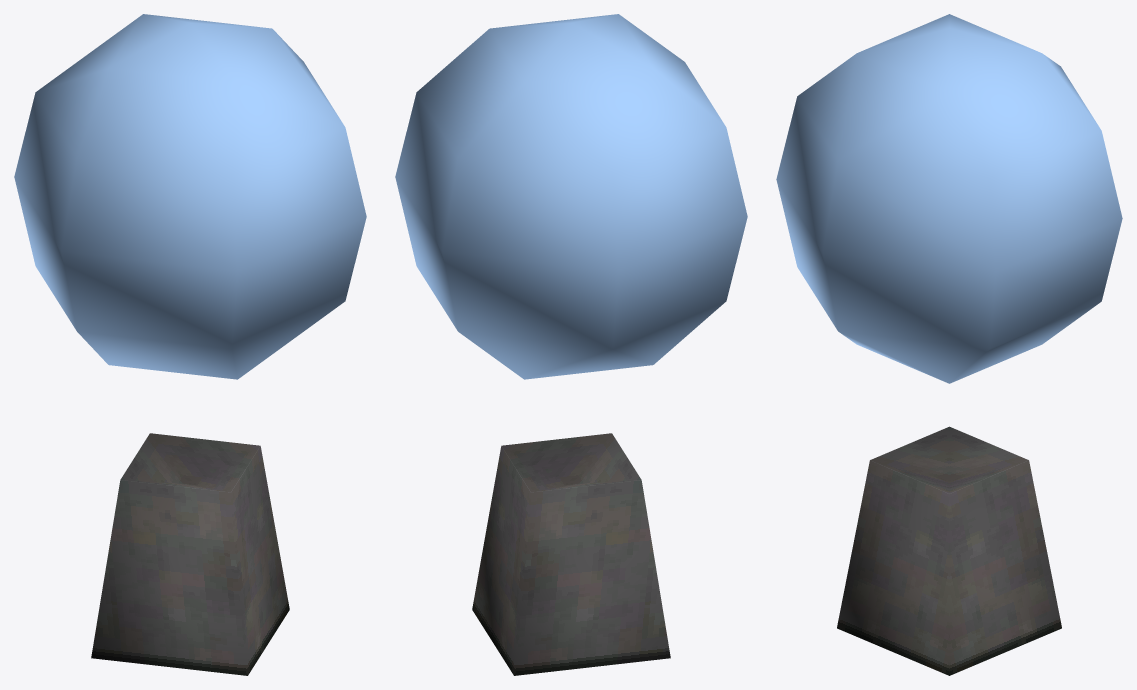
The model's file is lifeday_orb_l2.fbx.
3 renders of one model, left to right at view 1: azimuth 30°, elevation 25°; view 2: azimuth 150°, elevation 25°; view 3: azimuth 270°, elevation 25°, orthographic.
Visible parts, largest first — view 1: mesh_node; view 2: mesh_node; view 3: mesh_node.
Part boxes in pixels (x1,y1,x2,y2): mesh_node: (14, 14, 366, 675); mesh_node: (395, 14, 747, 675); mesh_node: (776, 14, 1122, 675).
Bounding box in the file's own units: 0.1995 × 0.3816 × 0.1995.
